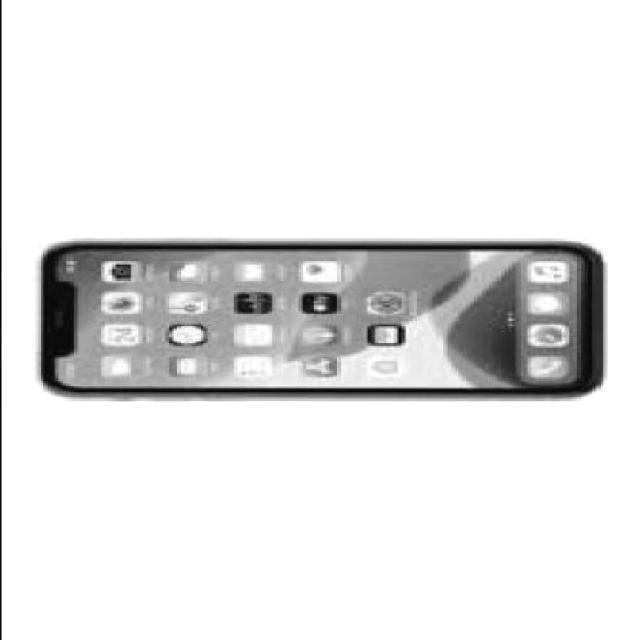fake: (34, 241, 602, 401)
